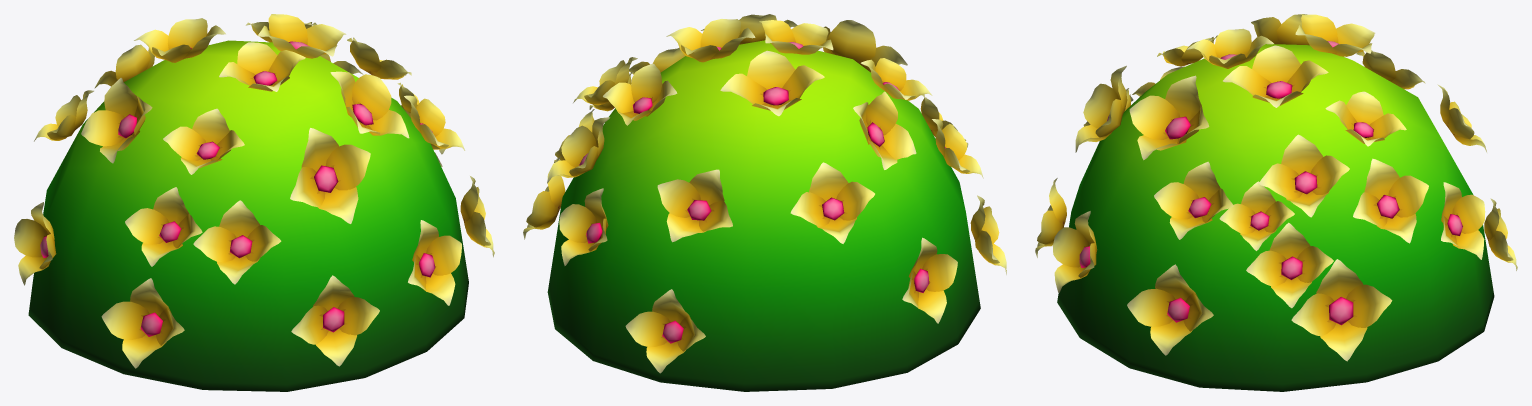
Rendered from flower (11).fbx.
3 renders of one model, left to right at view 1: azimuth 30°, elevation 25°; view 2: azimuth 150°, elevation 25°; view 3: azimuth 270°, elevation 25°, orthographic.
Parts seen in each view (by area): view 1: 10_Bush4; view 2: 10_Bush4; view 3: 10_Bush4.
Part boxes in pixels (<box>): 10_Bush4: <box>14,14,494,391</box>; 10_Bush4: <box>523,14,1006,391</box>; 10_Bush4: <box>1035,14,1517,391</box>.
Bounding box in the file's own units: 120 × 73.76 × 124.
